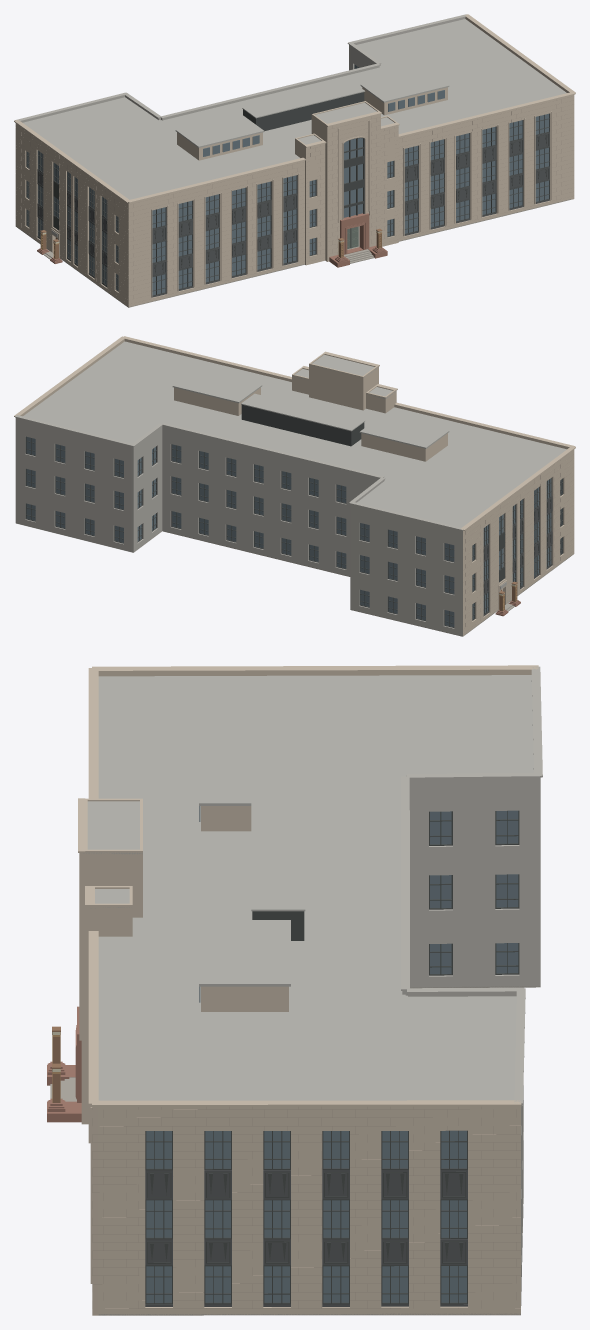
File: jingan-lester-medical-research-institute-raw.glb
3 views of the same model, one above another, from view 1: azimuth 30°, elevation 25°; view 2: azimuth 150°, elevation 25°; view 3: azimuth 270°, elevation 25° (orthographic). The views are drawn at different scales.
Visible parts, largest first — view 1: 雷士德医学研究院主楼（2024修缮后外观）; view 2: 雷士德医学研究院主楼（2024修缮后外观）; view 3: 雷士德医学研究院主楼（2024修缮后外观）.
Boxes of the visible parts, box(x1,y1,x2,y2) form: 雷士德医学研究院主楼（2024修缮后外观）: box(14, 14, 575, 307); 雷士德医学研究院主楼（2024修缮后外观）: box(14, 336, 575, 636); 雷士德医学研究院主楼（2024修缮后外观）: box(47, 665, 542, 1315).
Size of the model in its own units: 69.28 by 19.74 by 32.47.
